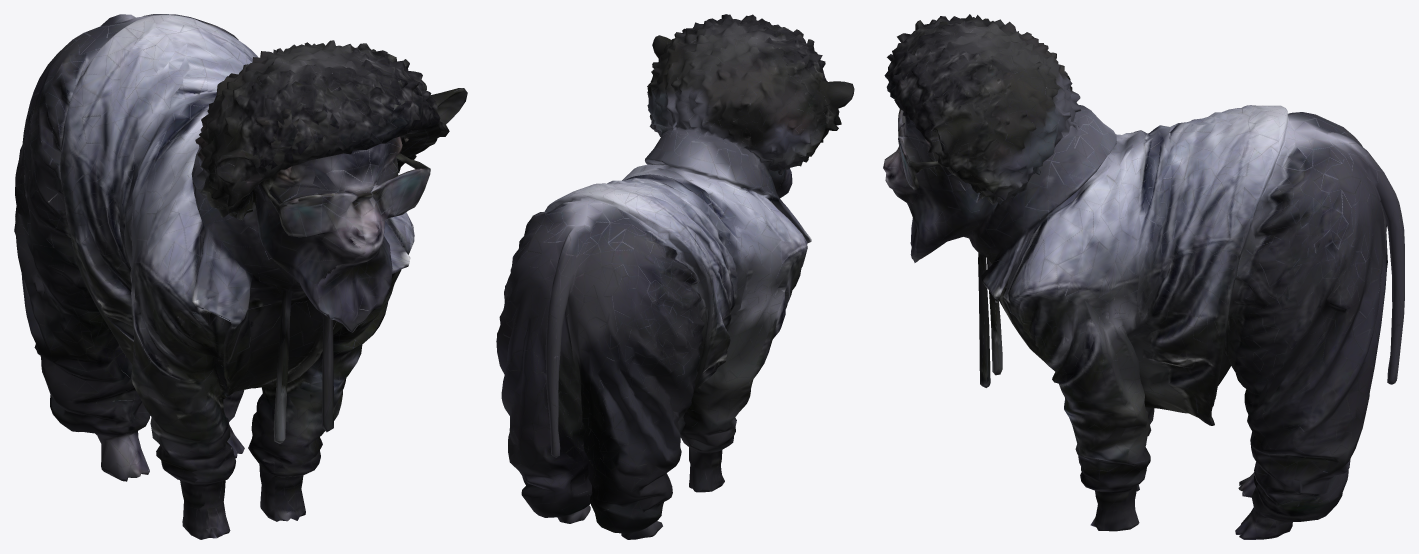
Rendered from chevre.glb.
3 views of the same model, side by side, from view 1: azimuth 30°, elevation 25°; view 2: azimuth 150°, elevation 25°; view 3: azimuth 270°, elevation 25° (orthographic). The views are drawn at different scales.
Parts seen in each view (by area): view 1: chevre; view 2: chevre; view 3: chevre.
Boxes of the visible parts, x1,y1,x2,y2 form: chevre: (14, 14, 467, 539); chevre: (496, 14, 854, 539); chevre: (883, 14, 1404, 539).
Size of the model in its own units: 1 by 1.96 by 1.95.
1 material, 1 textured.
